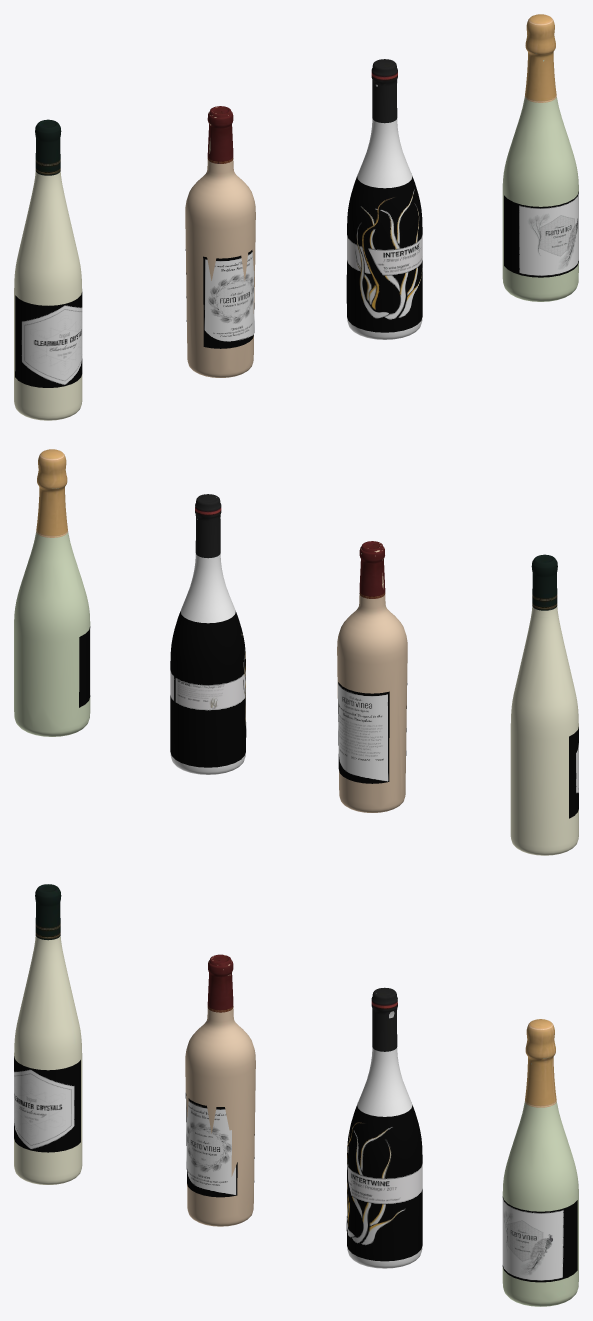
Rendered from wine_bottles_01.glb.
3 views of the same model, one above another, from view 1: azimuth 30°, elevation 25°; view 2: azimuth 150°, elevation 25°; view 3: azimuth 330°, elevation 25° (orthographic).
Visible parts, largest first — view 1: wine_bottles_01_bordeaux, wine_bottles_01_burgundy, wine_bottles_01_alsace, wine_bottles_01_champagne; view 2: wine_bottles_01_bordeaux, wine_bottles_01_burgundy, wine_bottles_01_champagne, wine_bottles_01_alsace; view 3: wine_bottles_01_bordeaux, wine_bottles_01_burgundy, wine_bottles_01_alsace, wine_bottles_01_champagne.
Part boxes in pixels (bbox=[...]): wine_bottles_01_bordeaux: bbox=[14, 14, 578, 420]; wine_bottles_01_burgundy: bbox=[346, 176, 422, 332]; wine_bottles_01_alsace: bbox=[15, 292, 82, 387]; wine_bottles_01_champagne: bbox=[504, 191, 578, 277]; wine_bottles_01_bordeaux: bbox=[14, 449, 578, 855]; wine_bottles_01_burgundy: bbox=[170, 611, 246, 767]; wine_bottles_01_champagne: bbox=[79, 626, 90, 707]; wine_bottles_01_alsace: bbox=[569, 727, 578, 818]; wine_bottles_01_bordeaux: bbox=[14, 884, 578, 1306]; wine_bottles_01_burgundy: bbox=[346, 1105, 422, 1261]; wine_bottles_01_alsace: bbox=[14, 1056, 80, 1152]; wine_bottles_01_champagne: bbox=[502, 1196, 577, 1282].
Size of the model in its own units: 0.6763 by 0.3314 by 0.0805.
9 materials, 6 textured.
